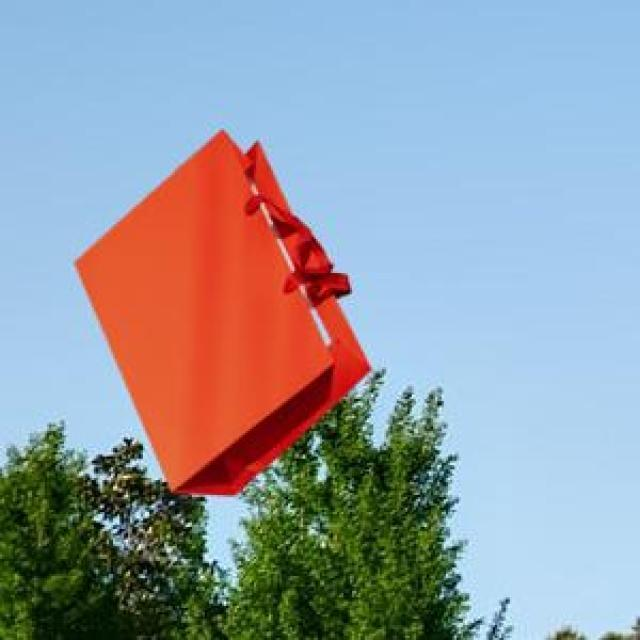paper: (70, 126, 367, 491)
